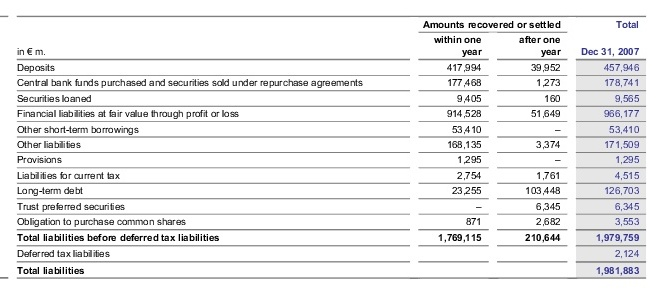table: (0, 0, 668, 296)
